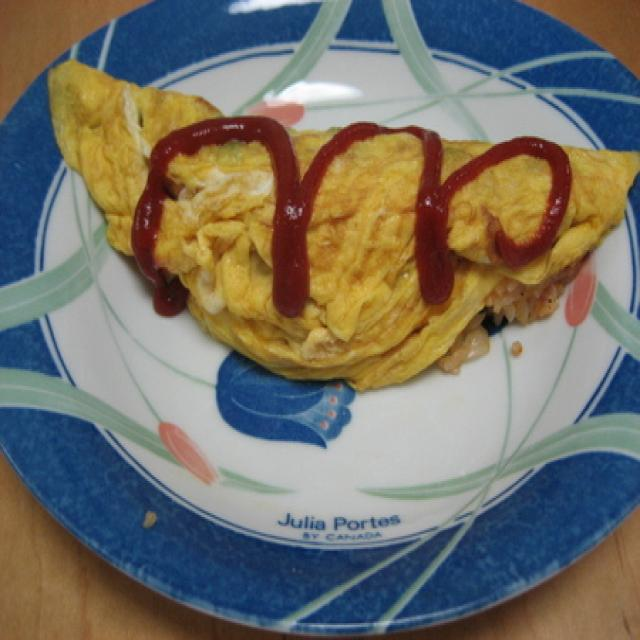鸡蛋料理: (5, 22, 640, 346)
